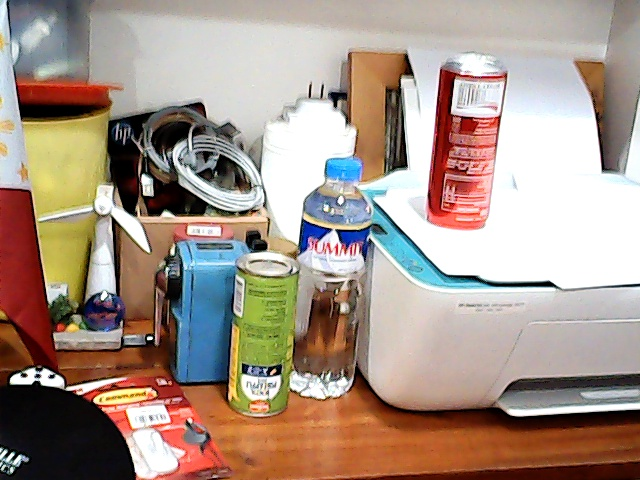Cola: (423, 44, 512, 231)
Pine Juice: (218, 244, 300, 422)
Summit Water: (294, 148, 382, 403)
